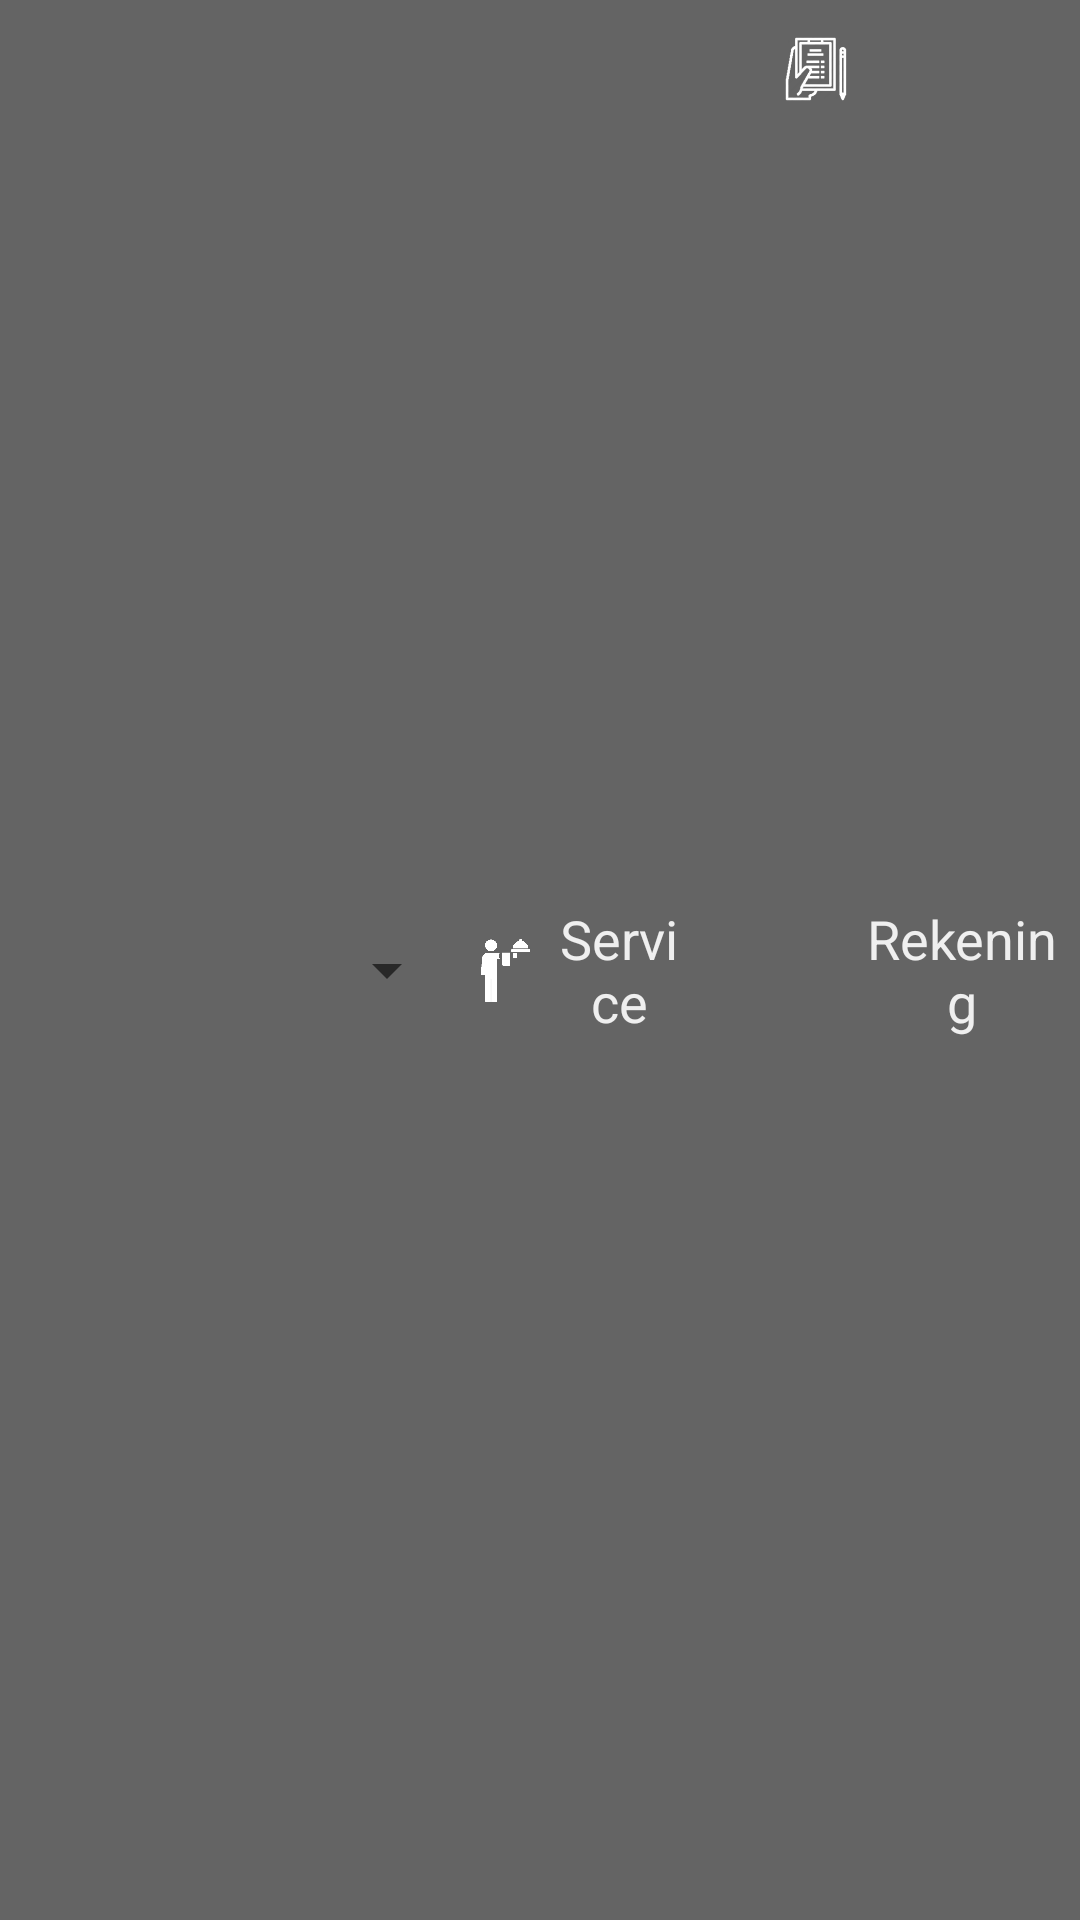

Named icons in this screenshot (1080*1920) and their bounding boxes, box=[x1, y1, x2, y2]:
ober: box=[481, 939, 530, 1002]
order: box=[785, 37, 846, 101]
